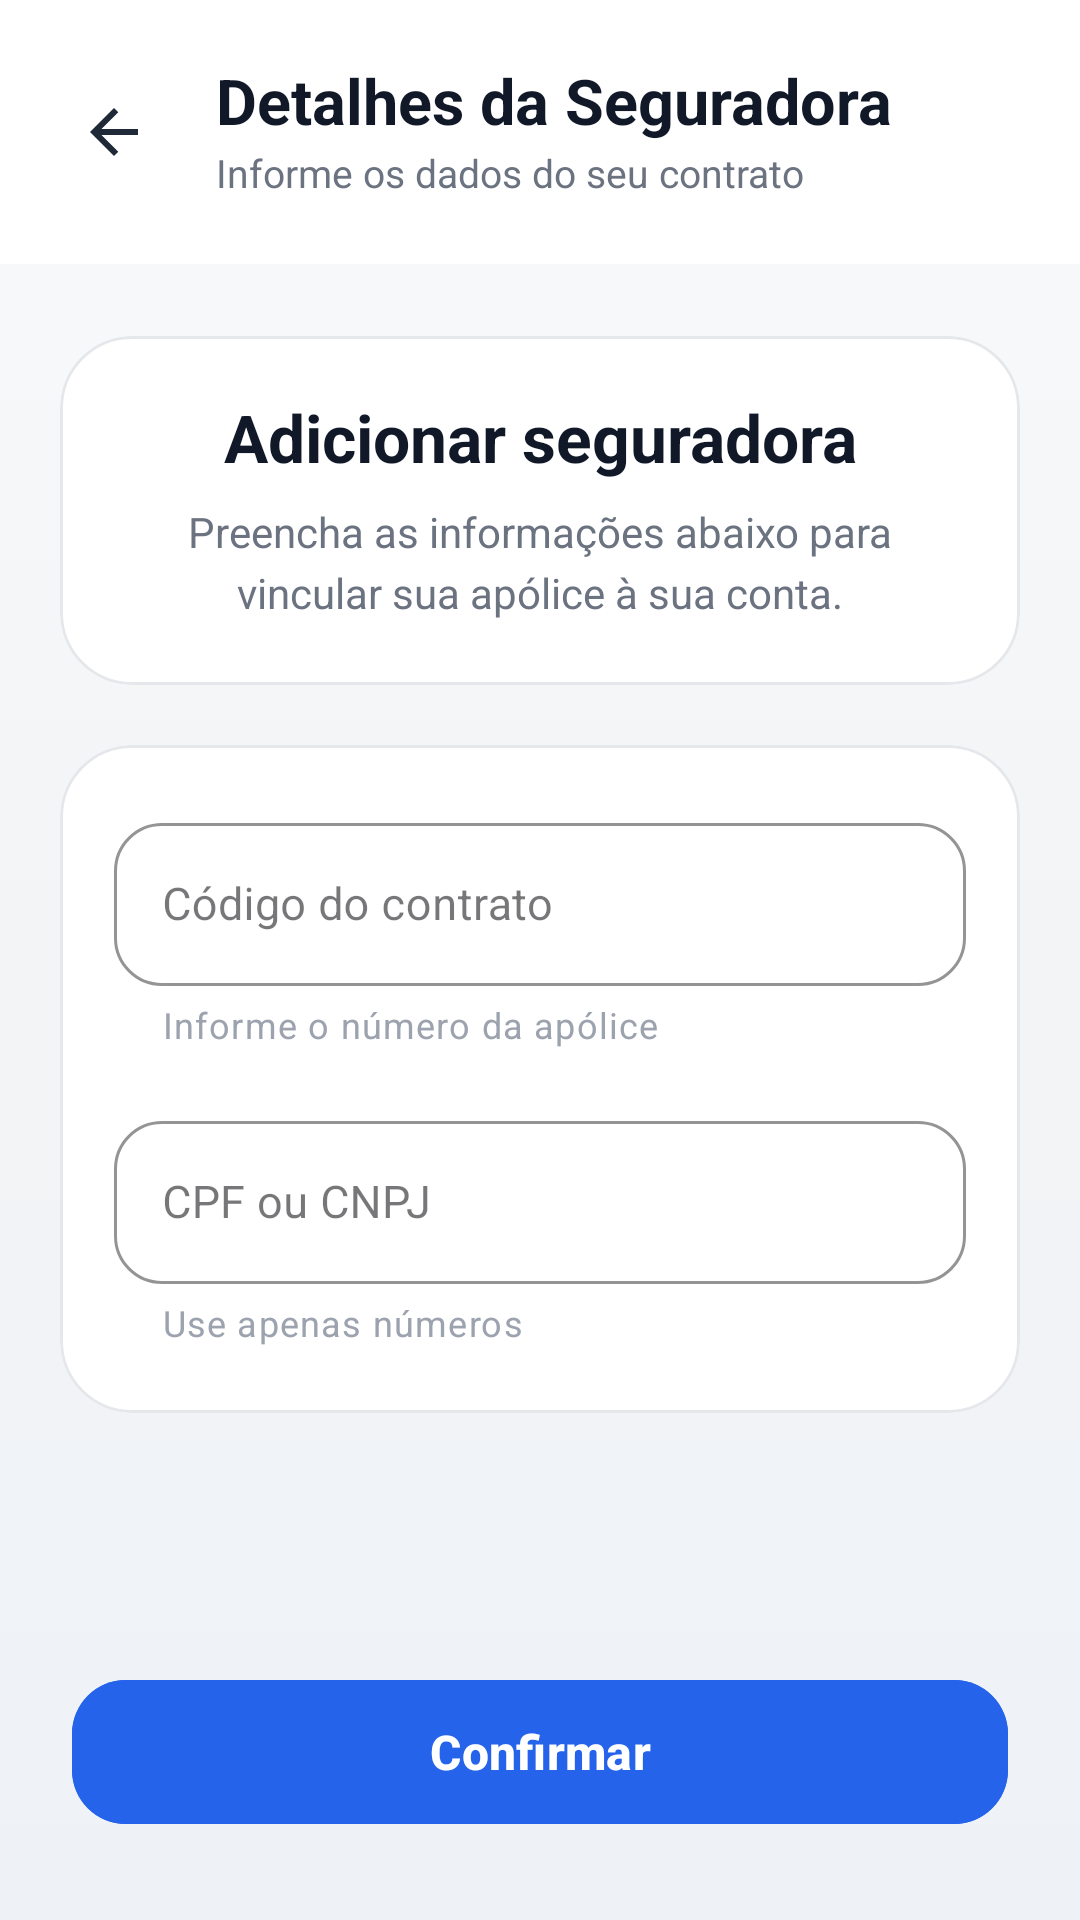

Where icons sit on this 1080×1920 app screen, as (x1, y1, x2, y2):
Voltar: (90, 108, 138, 156)
